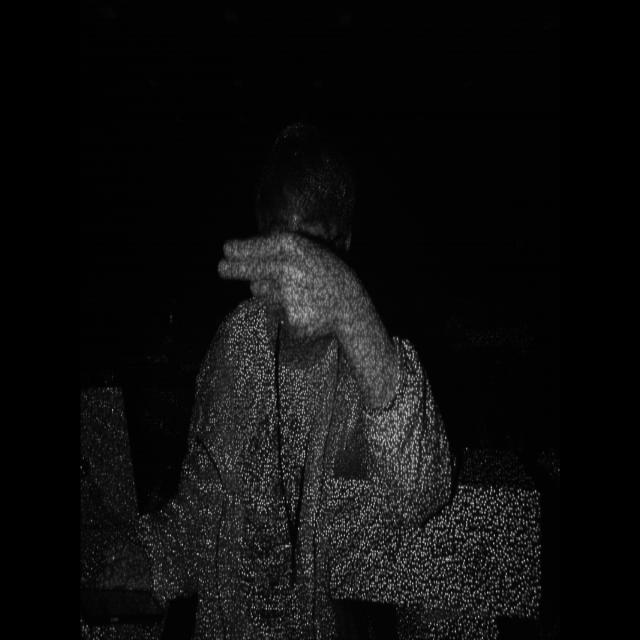H: (211, 211, 350, 357)
